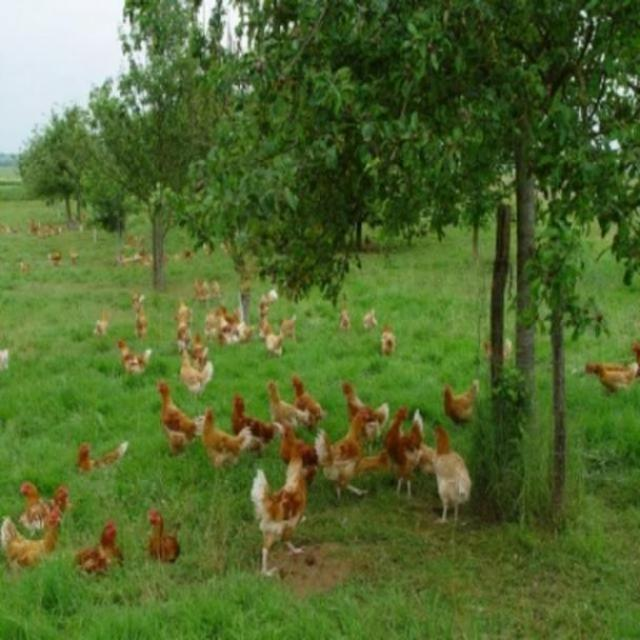Chicken: (90, 267, 413, 401), (151, 371, 398, 512), (246, 446, 312, 584), (427, 414, 477, 535), (374, 397, 421, 499), (61, 512, 123, 589), (0, 501, 61, 578), (75, 433, 137, 493), (581, 339, 638, 399), (14, 478, 72, 527), (141, 497, 186, 557), (0, 208, 86, 239), (440, 371, 477, 429), (413, 435, 440, 484)
